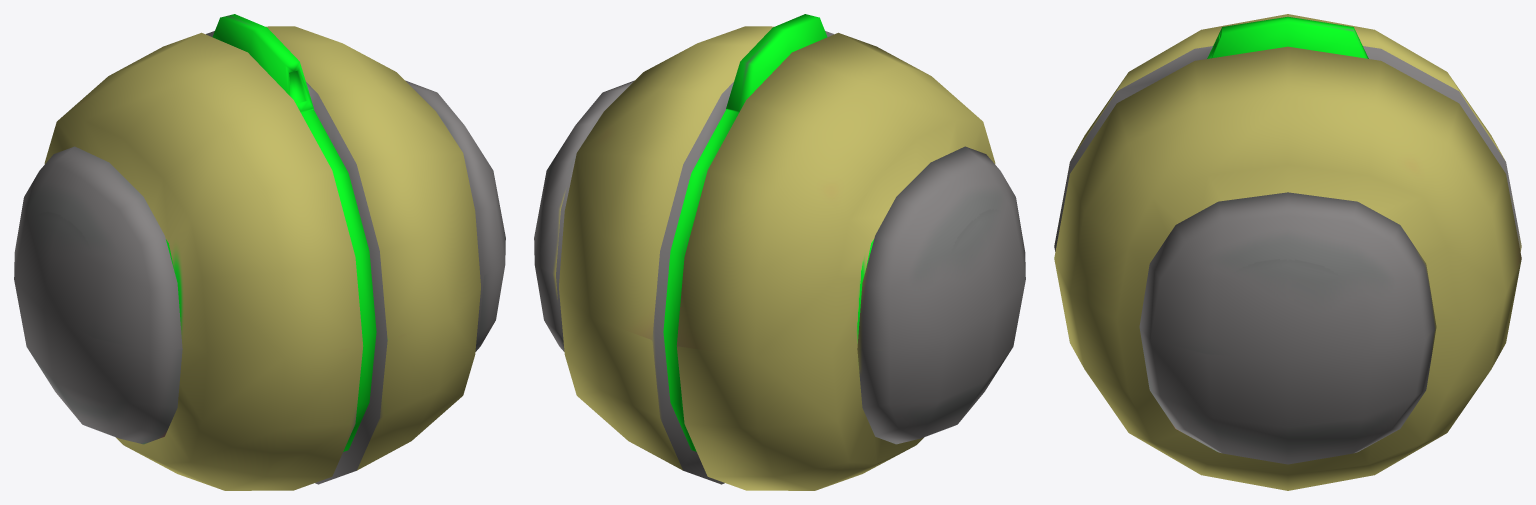
Rendered from hoverSphere_1122.fbx.
The picture shows the model from 3 angles, left to right: view 1: azimuth 30°, elevation 25°; view 2: azimuth 150°, elevation 25°; view 3: azimuth 270°, elevation 25°; orthographic projection.
Parts seen in each view (by area): view 1: Cube; view 2: Cube; view 3: Cube.
Part boxes in pixels (x1,y1,x2,y2): Cube: (14, 14, 505, 490); Cube: (534, 14, 1025, 490); Cube: (1054, 14, 1521, 490).
Size of the model in its own units: 190 by 184 by 176.
